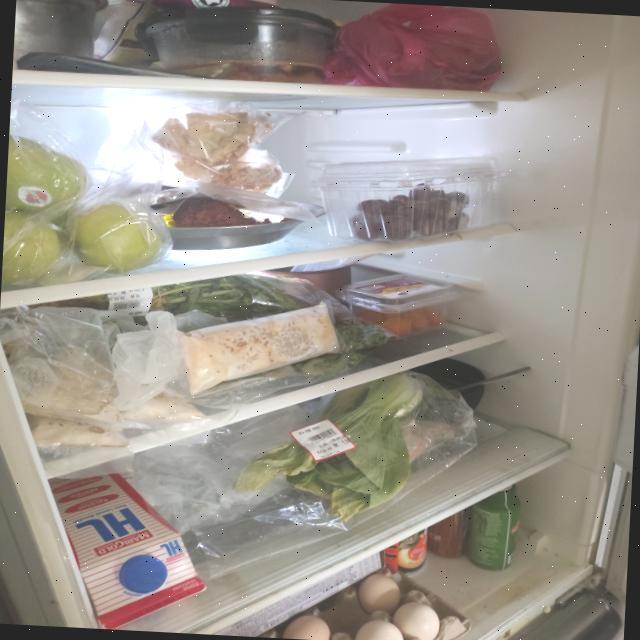apple: (2, 134, 168, 290)
egg: (255, 560, 474, 640)
grape: (346, 180, 471, 248)
leafy_greens: (142, 277, 282, 331)
pakchoy: (232, 363, 425, 524)
tempeh: (175, 296, 344, 405), (30, 414, 131, 450)
unknown_bag: (324, 0, 506, 93), (0, 304, 123, 419)
